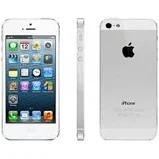iphone: (1, 16, 60, 141)
iphone5: (98, 17, 158, 142), (1, 18, 60, 143)
